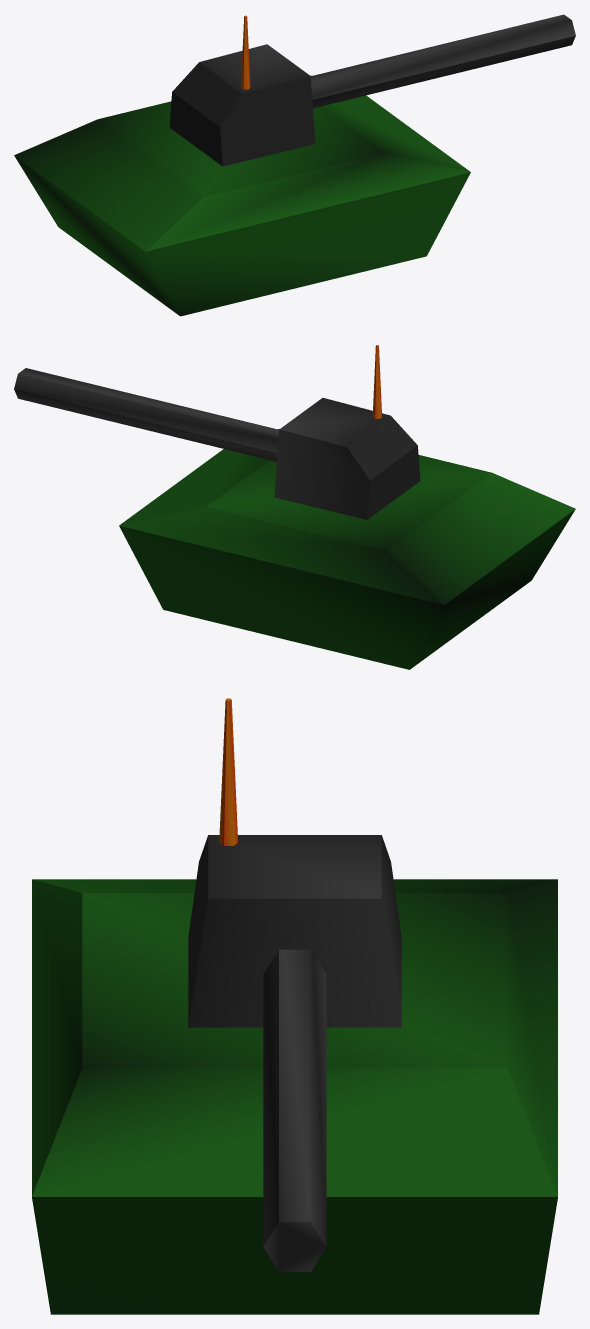
Rendered from tank.glb.
3 views of the same model, one above another, from view 1: azimuth 30°, elevation 25°; view 2: azimuth 150°, elevation 25°; view 3: azimuth 270°, elevation 25° (orthographic). The views are drawn at different scales.
Parts seen in each view (by area): view 1: Tank, Turret, Barrel, Antenna; view 2: Tank, Turret, Barrel, Antenna; view 3: Tank, Turret, Barrel, Antenna.
Boxes of the visible parts, bbox=[...] form: Tank: bbox=[14, 75, 470, 316]; Turret: bbox=[169, 44, 315, 166]; Barrel: bbox=[310, 14, 575, 108]; Antenna: bbox=[241, 15, 250, 89]; Tank: bbox=[119, 429, 575, 669]; Turret: bbox=[274, 398, 420, 519]; Barrel: bbox=[14, 368, 279, 461]; Antenna: bbox=[372, 345, 381, 418]; Tank: bbox=[32, 879, 557, 1314]; Turret: bbox=[188, 835, 401, 1027]; Barrel: bbox=[263, 949, 326, 1271]; Antenna: bbox=[219, 698, 238, 845].
Size of the model in its own units: 3 by 1.41 by 1.4.
